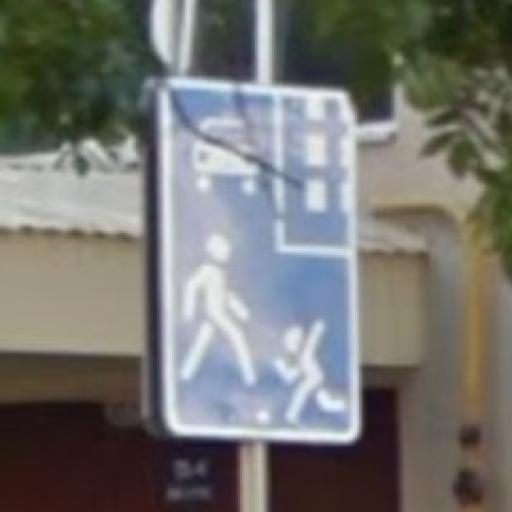traffic_sign: (158, 75, 364, 445)
